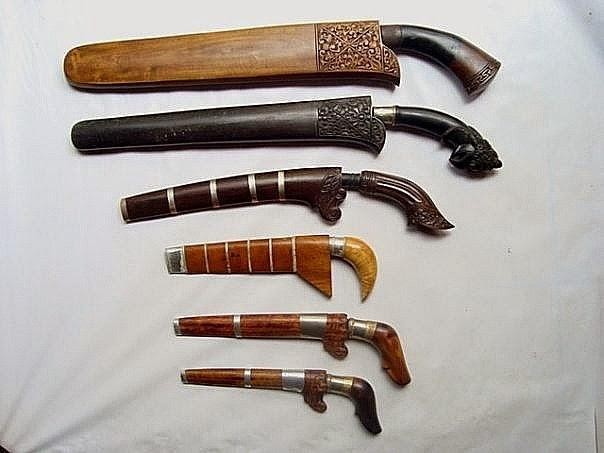espada: (61, 14, 510, 108), (68, 90, 526, 181), (114, 160, 459, 248), (163, 281, 431, 394), (168, 357, 406, 442), (156, 226, 400, 308)
